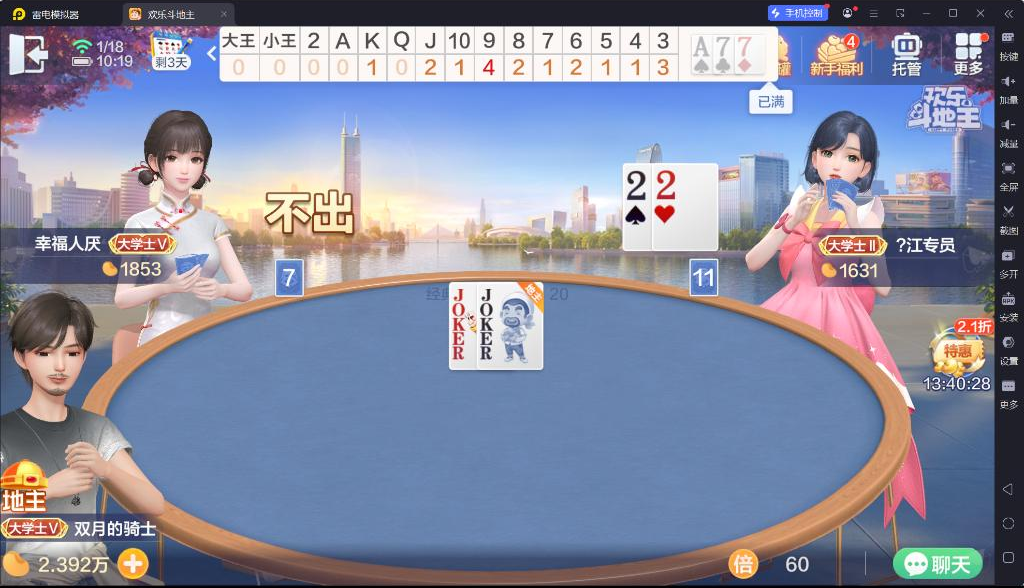A: (692, 34, 711, 59)
JOKER: (450, 286, 468, 334)
joker: (478, 285, 496, 335)
seven: (715, 36, 731, 58), (737, 36, 753, 57)
two: (654, 168, 678, 202), (624, 169, 649, 201)
